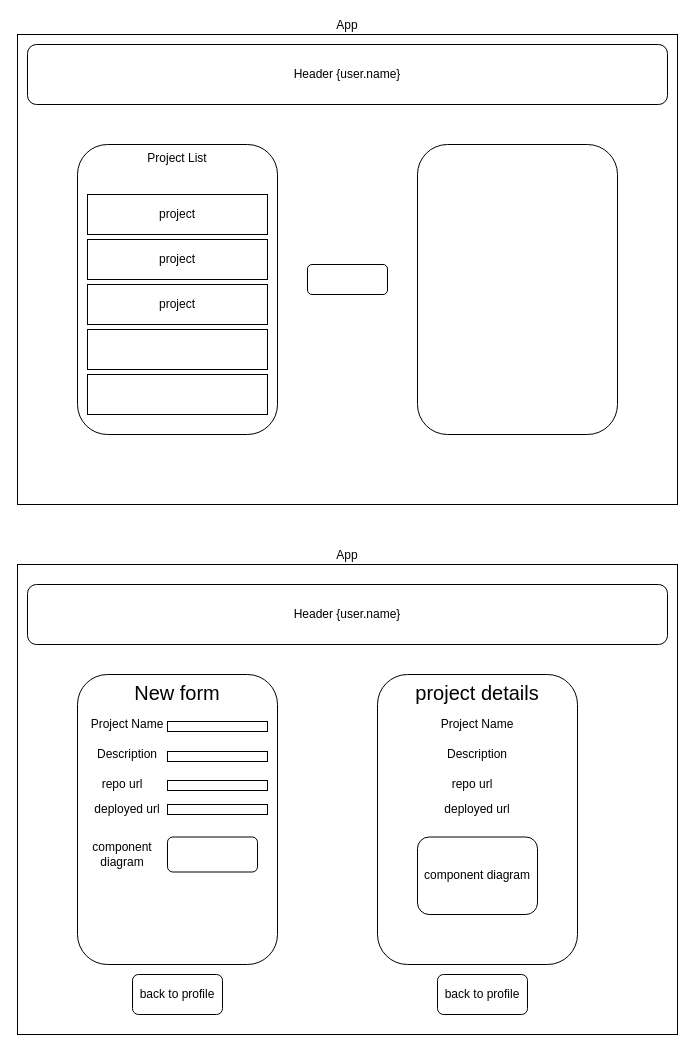
This 695x1052 diagram has some shape labels left out. Each missing label, with the centre of its shape:
About Me something something something: point (517, 289)
Add project: point (347, 279)
upload image: point (212, 854)
